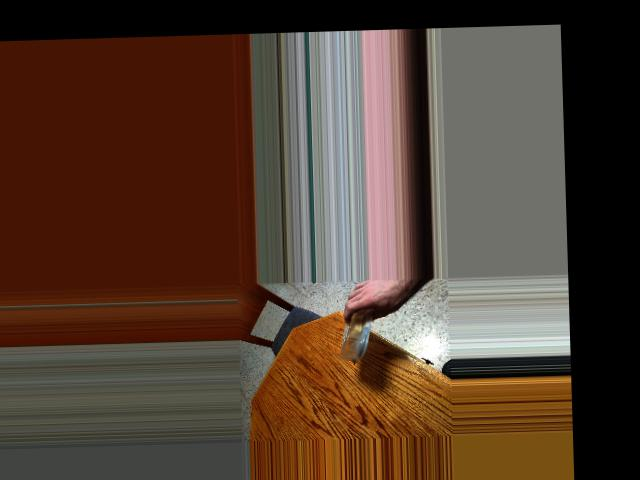cheese: (338, 309, 383, 357)
